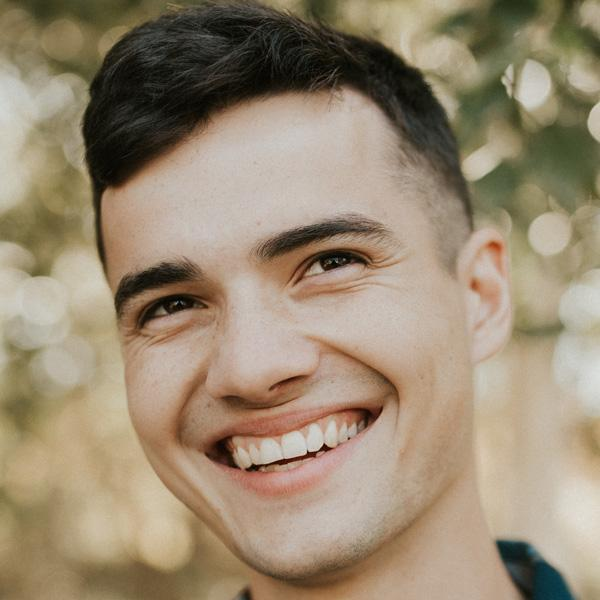Eyes: (124, 279, 219, 340), (283, 237, 382, 295)
